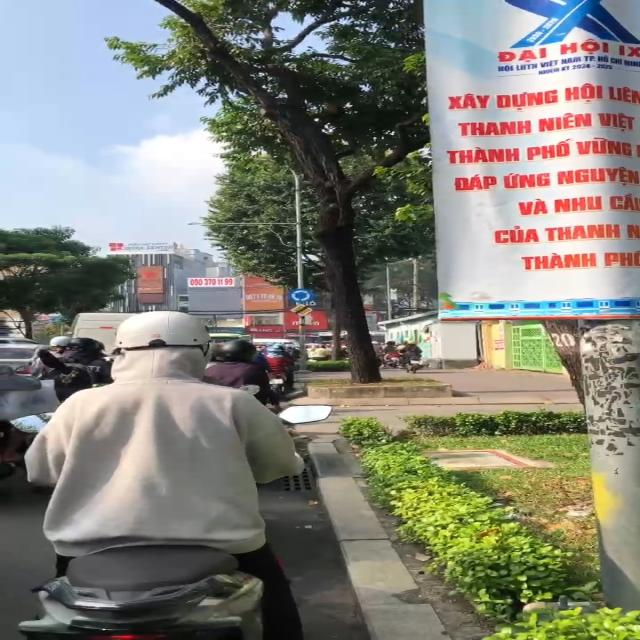Bien bao noi giao nhau chay theo vong xuyen: (284, 287, 318, 304)
